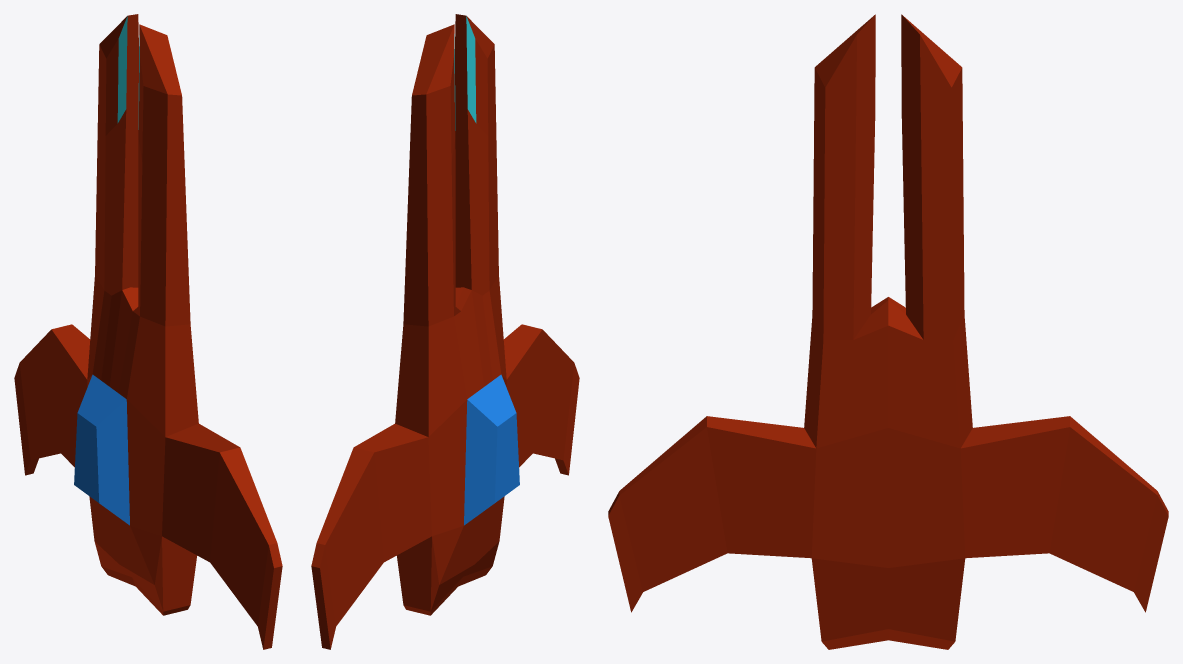
The model's file is Player.fbx.
The picture shows the model from 3 angles, left to right: view 1: azimuth 30°, elevation 25°; view 2: azimuth 150°, elevation 25°; view 3: azimuth 270°, elevation 25°; orthographic projection. The views are drawn at different scales.
Visible parts, largest first — view 1: Cube; view 2: Cube; view 3: Cube.
Boxes of the visible parts, x1,y1,x2,y2 form: Cube: [14, 14, 282, 649]; Cube: [311, 14, 579, 649]; Cube: [608, 14, 1168, 649].
Size of the model in its own units: 61.63 by 430 by 352.
